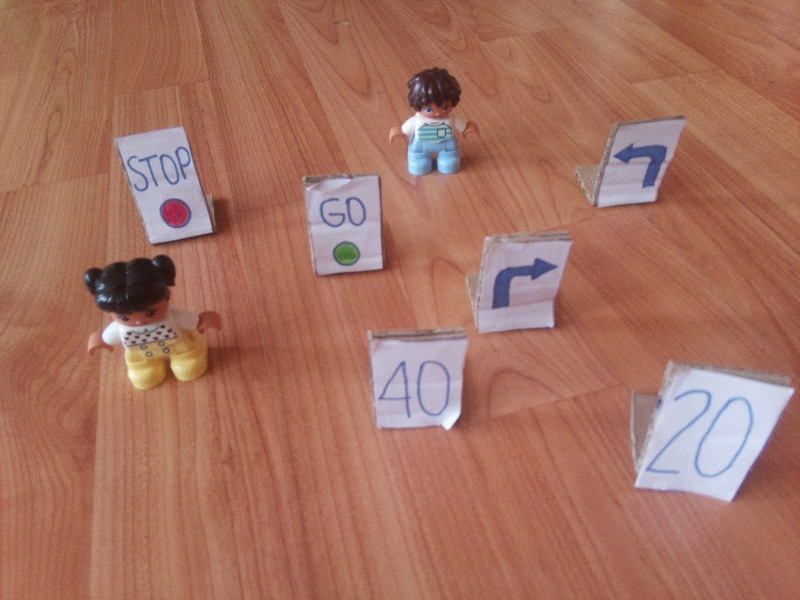20: (649, 387, 753, 484)
40: (379, 353, 452, 417)
go: (318, 193, 374, 269)
person: (73, 258, 220, 384), (384, 68, 480, 176)
stop: (125, 145, 201, 229)
turn left: (611, 139, 670, 194)
turn right: (489, 250, 558, 317)
